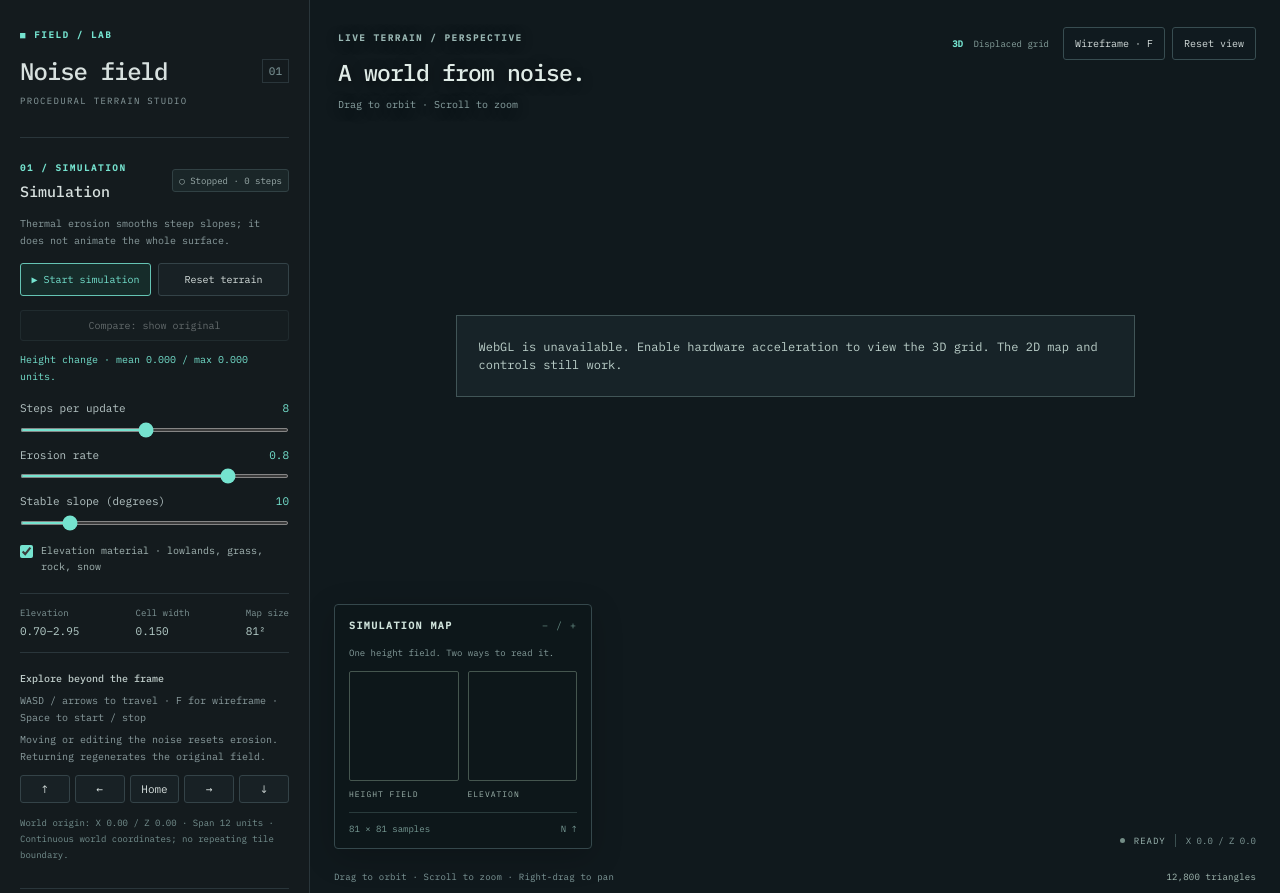
default simulation produces measurable change and supports original/result comparison
This screenshot has width=1280, height=893.
Click the button "▶ Start simulation" at (86, 280), box 20,263 -> 151,296
Wait 1000 ms
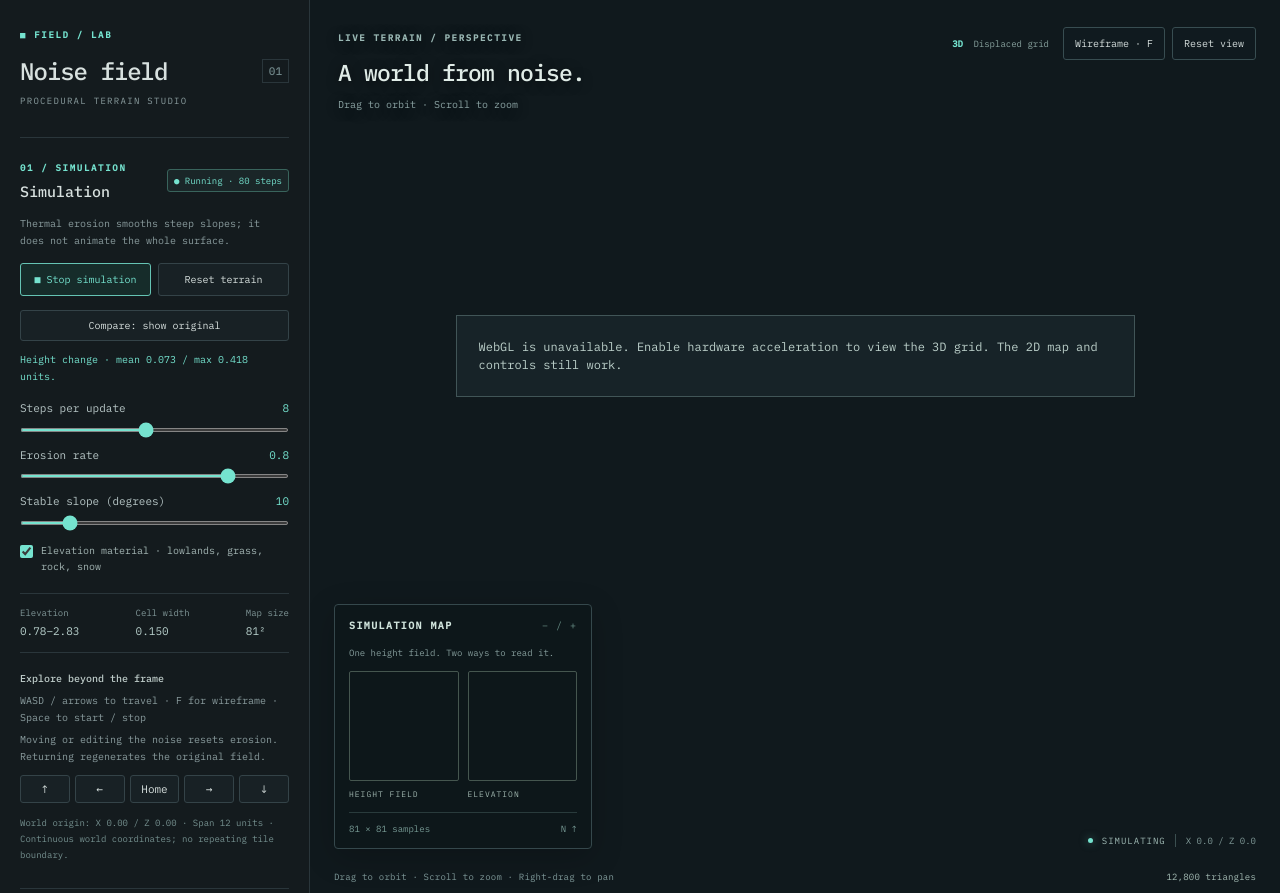
Check: the message named "Simulation status" shows "80 steps", box 167,168 -> 289,192
Check: the text labelled "Terrain change" no longer shows "max 0.000"
Click the button "Compare: show original" at (154, 326), box 20,310 -> 289,341
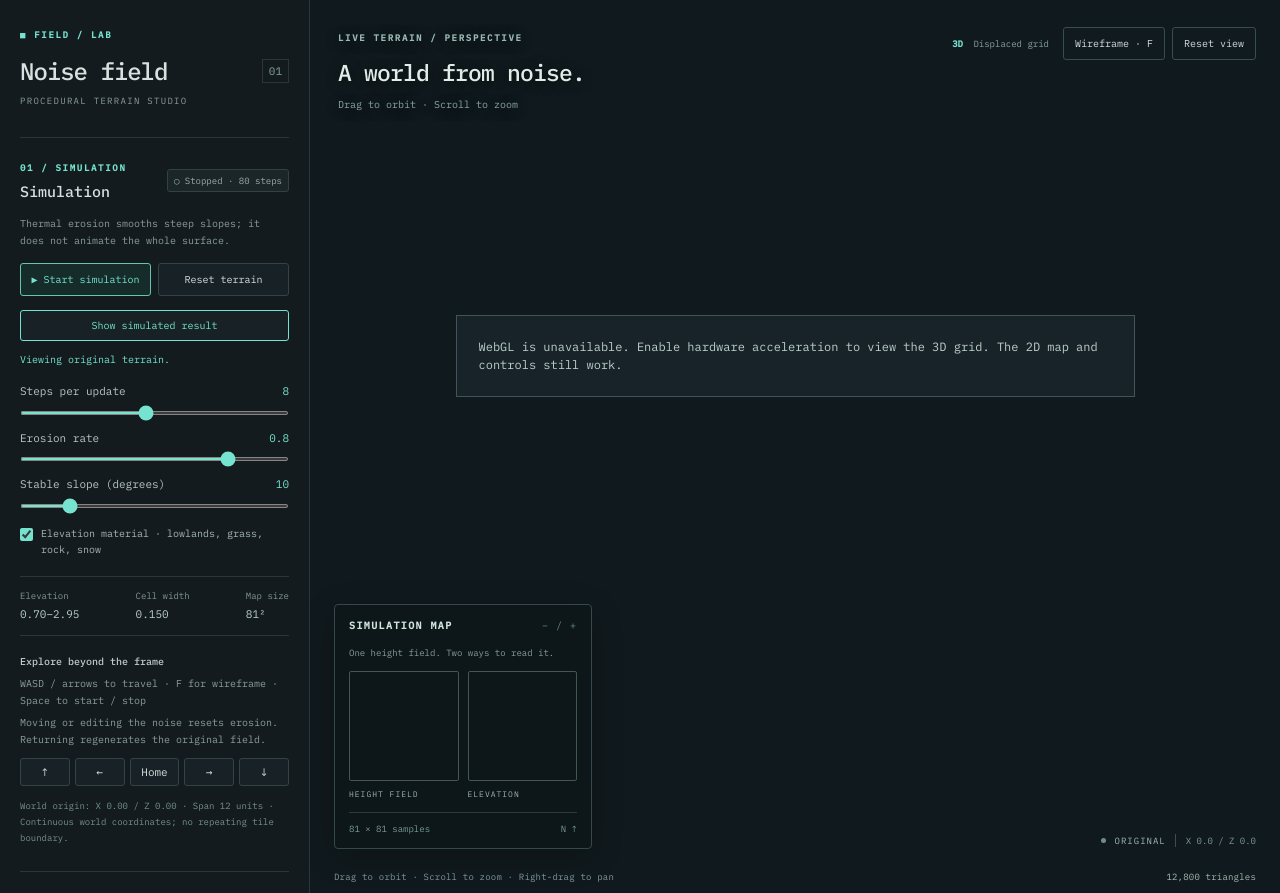
Check: the text named "Terrain change" reads "Viewing original terrain.", box 20,353 -> 170,366
Check: the message named "Simulation status" shows "Stopped", box 174,174 -> 223,186
Click the button "Show simulated result" at (154, 326), box 20,310 -> 289,341
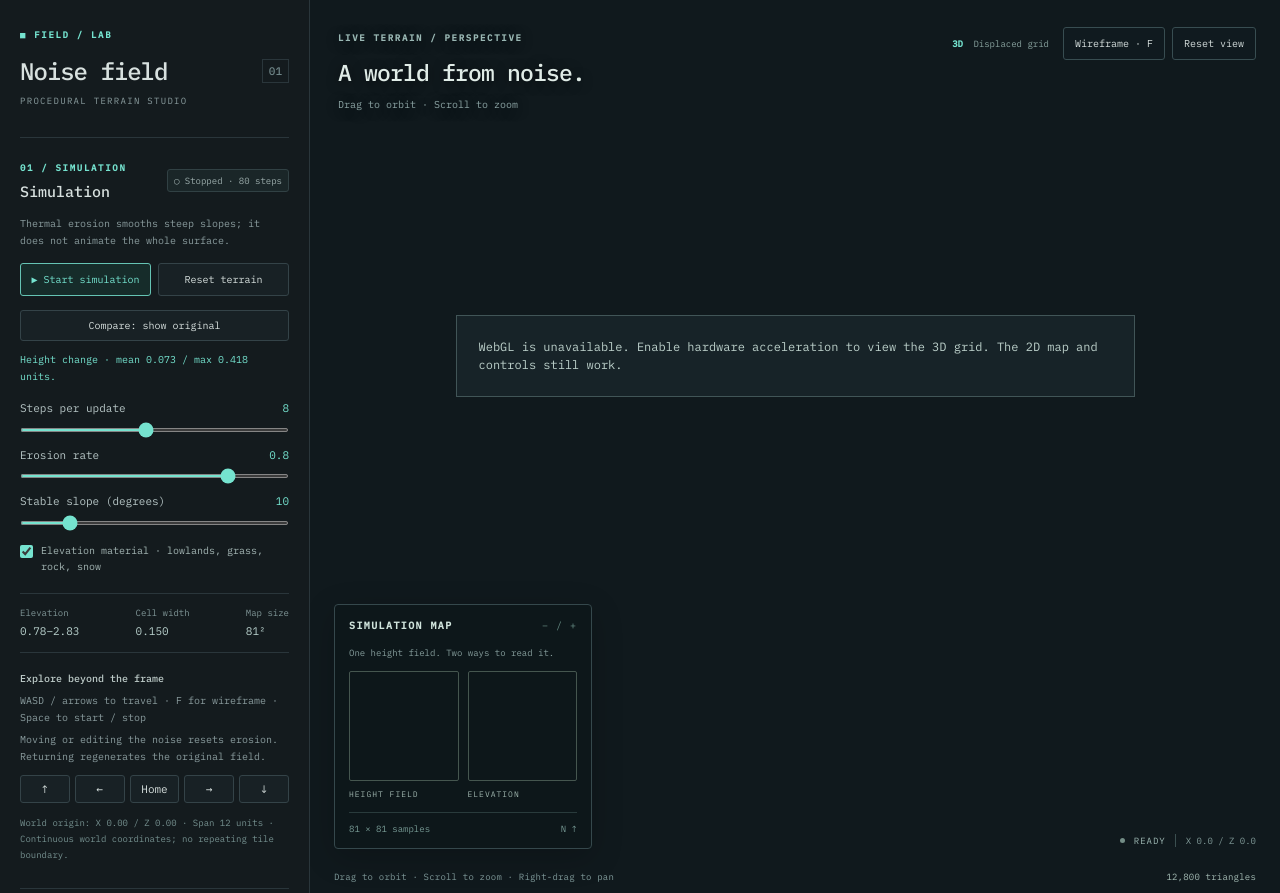
Check: the text named "Terrain change" shows "Height change", box 20,353 -> 248,383
